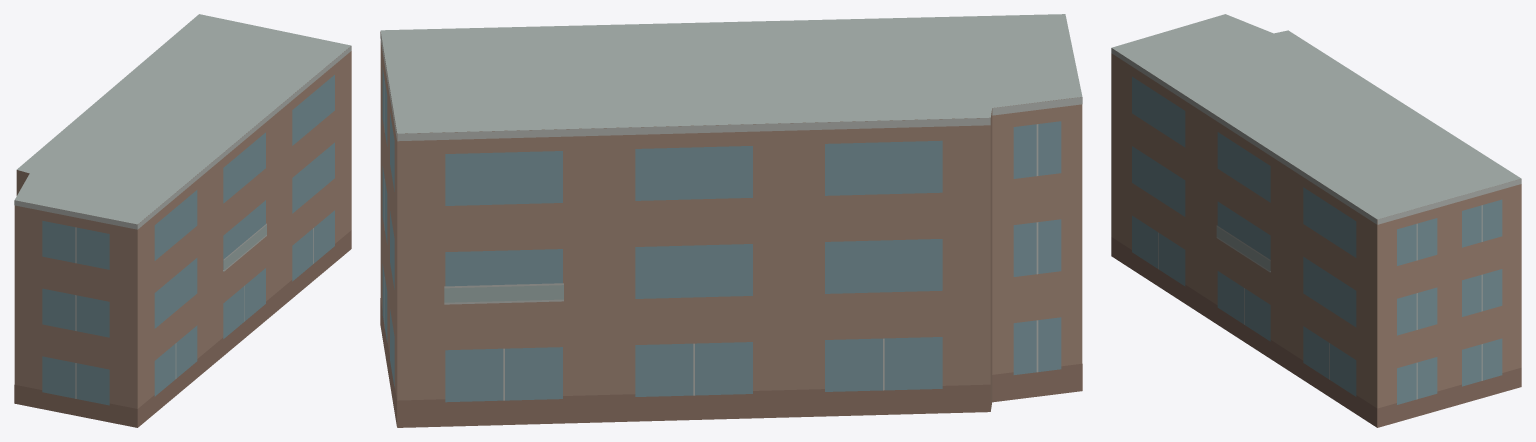
The model's file is survey-upis-32583341.glb.
3 views of the same model, side by side, from view 1: azimuth 30°, elevation 25°; view 2: azimuth 150°, elevation 25°; view 3: azimuth 270°, elevation 25° (orthographic). The views are drawn at different scales.
Visible parts, largest first — view 1: survey-upis-32583341.tmp; view 2: survey-upis-32583341.tmp; view 3: survey-upis-32583341.tmp.
Part boxes in pixels (bbox=[...]): survey-upis-32583341.tmp: bbox=[14, 14, 351, 427]; survey-upis-32583341.tmp: bbox=[380, 14, 1082, 427]; survey-upis-32583341.tmp: bbox=[1111, 14, 1521, 427].
Bounding box in the file's own units: 20.1 × 9.5 × 16.96.
